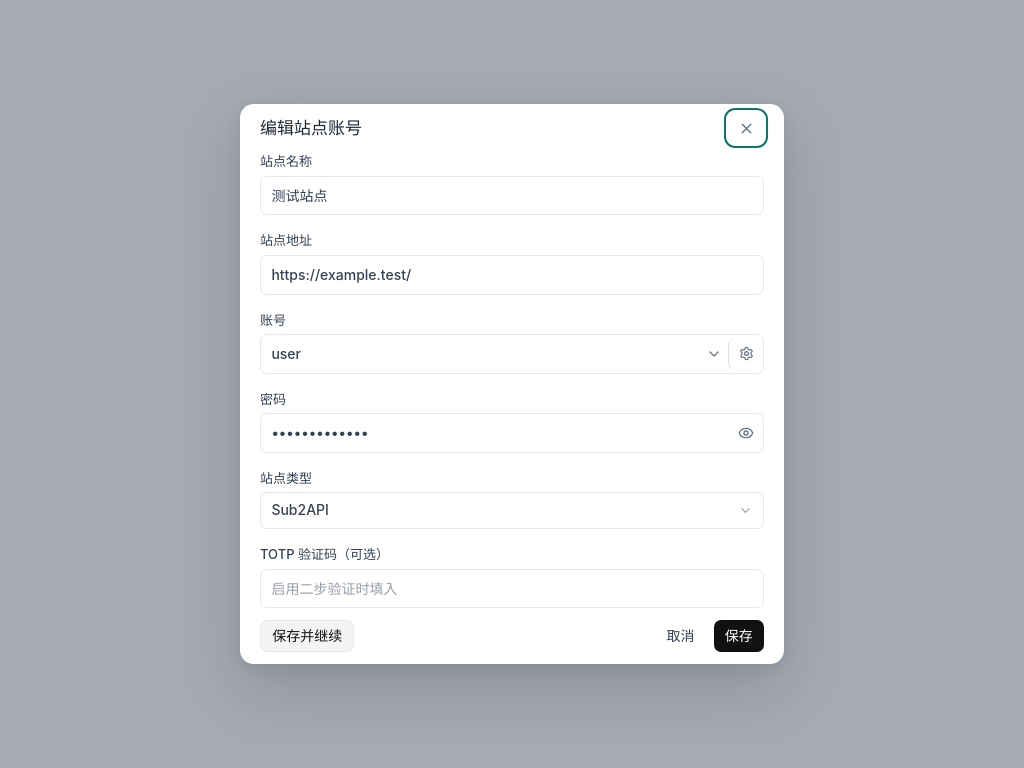
normalizeStationBaseUrl › shows the saved password masked by default and supports revealing it
Expected: the password field labelled "密码" holds "demo-password", [260,413,764,453]
Click the button named "显示密码".
click(746, 433)  # box [728,417,764,449]
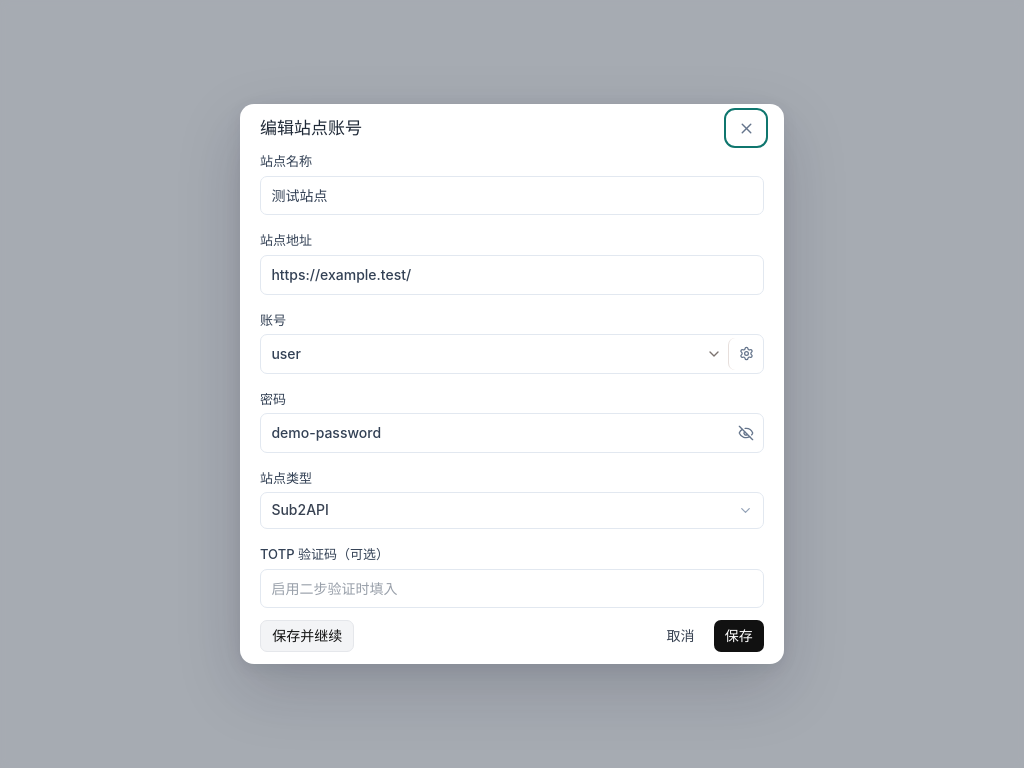
Result: the field labelled "密码" shows its text at [260,413,764,453]
Result: the button named "隐藏密码" is shown at [728,417,764,449]
